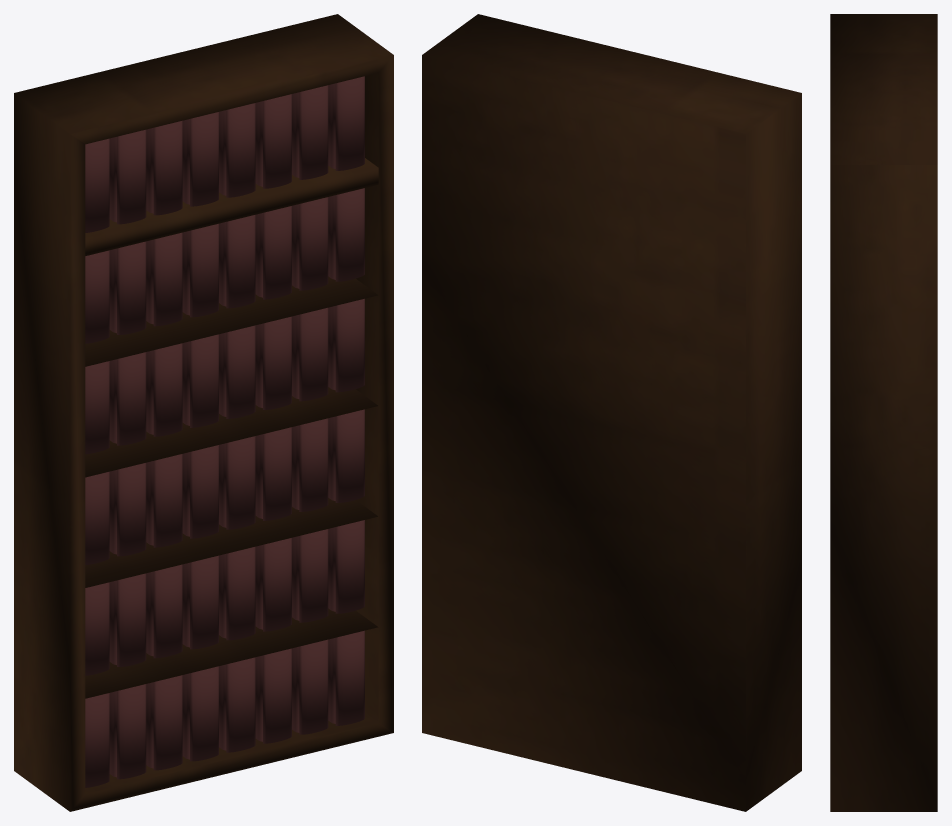
File: Bookshelf.fbx
3 views of the same model, side by side, from view 1: azimuth 30°, elevation 25°; view 2: azimuth 150°, elevation 25°; view 3: azimuth 270°, elevation 25° (orthographic). The views are drawn at different scales.
Parts seen in each view (by area): view 1: Cube.004, Cube.005, Cube.016, Cube.014, Cube.012, Cube.010, Cube.006, Cube.008; view 2: Cube.004; view 3: Cube.004.
Boxes of the visible parts, box(x1,y1,x2,y2) form: Cube.004: box(14, 14, 393, 811); Cube.005: box(85, 158, 378, 698); Cube.016: box(85, 630, 364, 787); Cube.014: box(85, 76, 364, 232); Cube.012: box(85, 520, 364, 675); Cube.010: box(85, 409, 364, 564); Cube.006: box(85, 188, 364, 343); Cube.008: box(85, 298, 364, 454); Cube.004: box(422, 14, 801, 811); Cube.004: box(830, 14, 937, 811).
Size of the model in its own units: 200 by 400 by 60.
